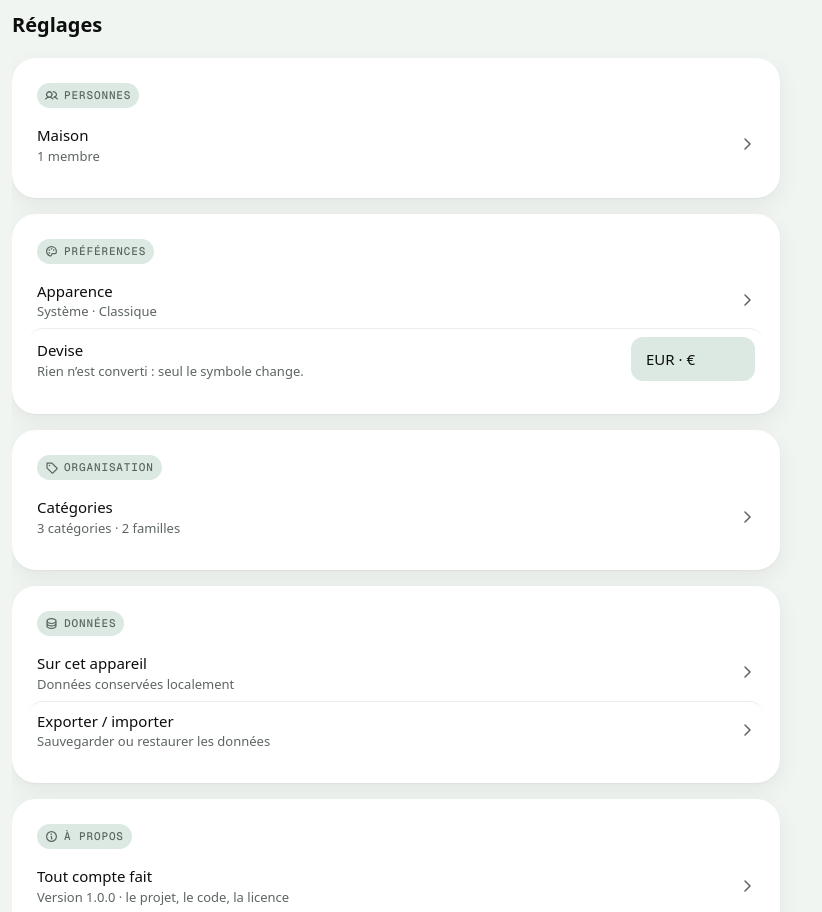
Test: le catalogue › descend famille par famille, et remonte
Click the link "Catégories 3 catégories · 2 familles" at (75, 507), box [29,488,763,545]
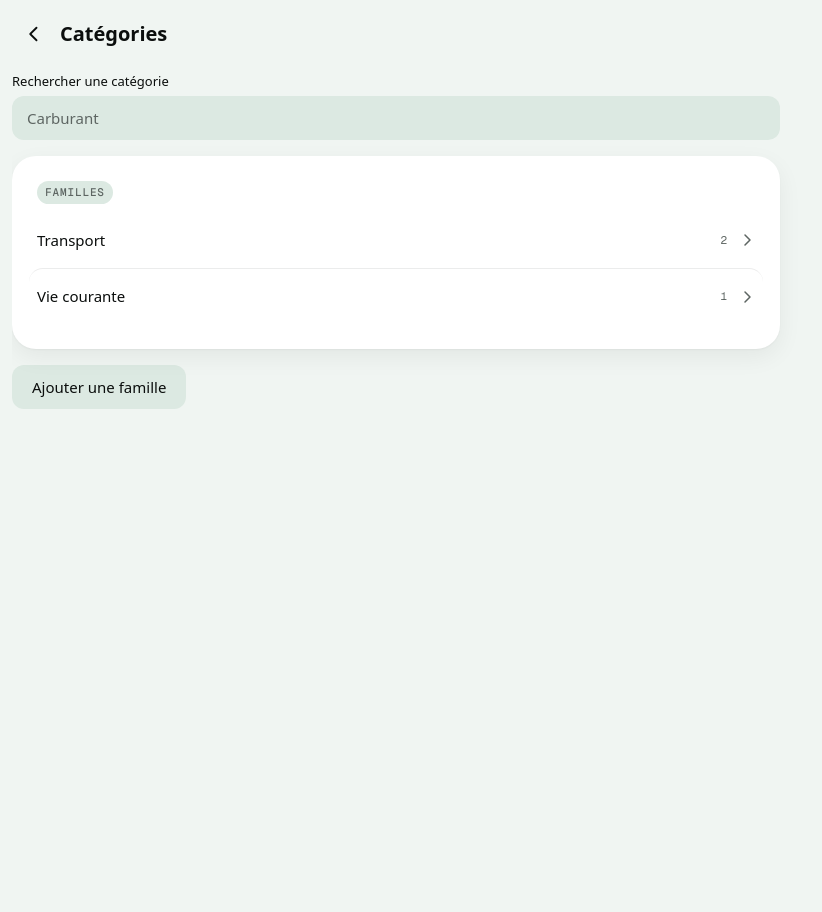
Expected: the heading reads "Catégories", [60,20,167,47]
Click the link "Transport 2" at (71, 240), box [37,230,805,261]
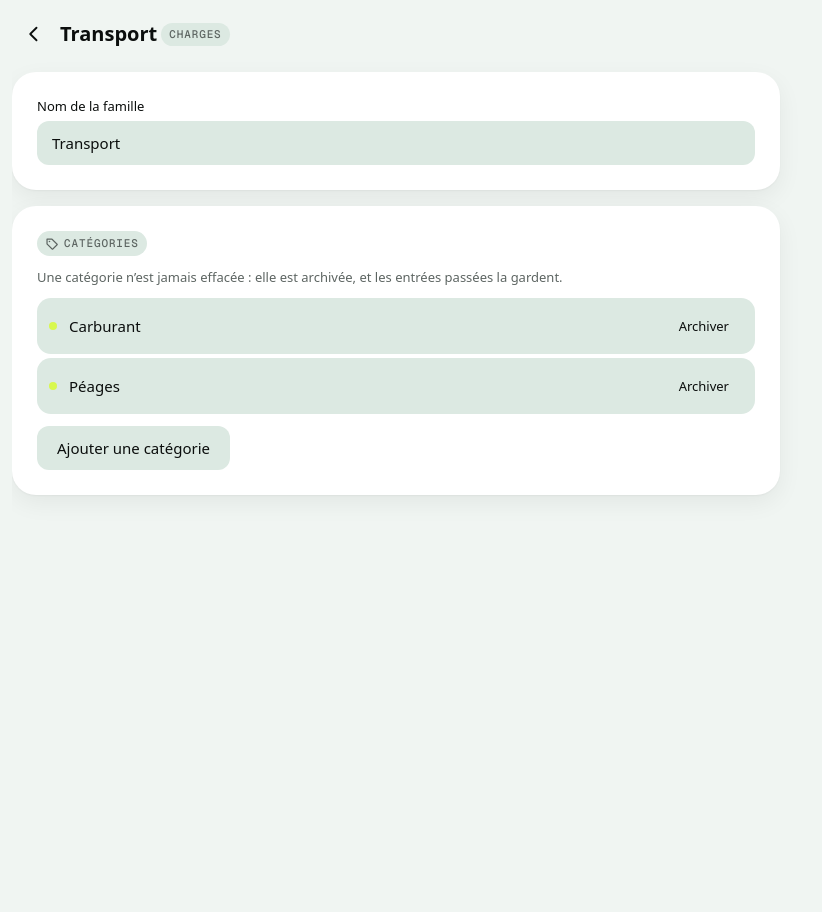
Expected: the heading reads "Transport", [60,20,157,47]
Expected: the 1st field showing "Carburant" is shown, [69,298,653,354]
Click the button named "Retour" at (34, 34), box [12,12,56,56]
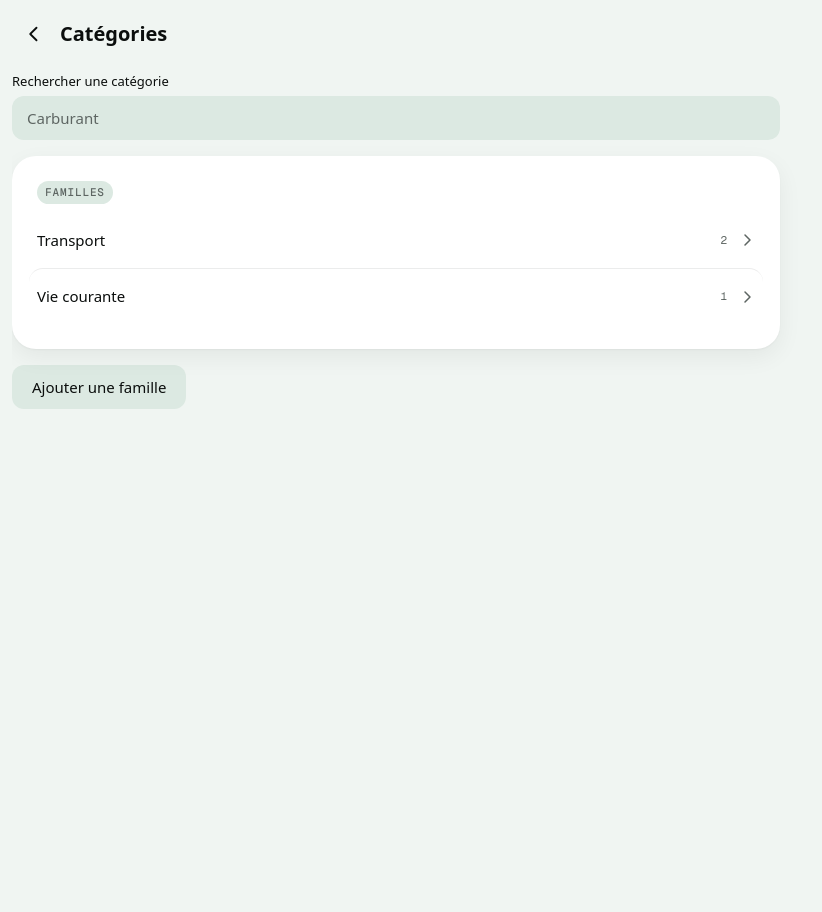
Expected: the heading reads "Catégories", [60,20,167,47]
